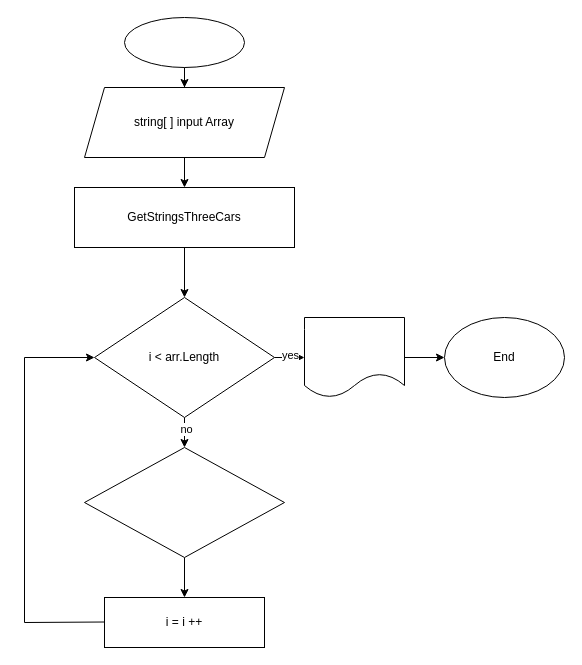
Some shapes in this 582 by 665 pixel diagram are drawn without their labels. The shapes that lost their labels are listed below. From the top down, each one's centre as x and y in pixels, then its label:
[184,42]: Start
[354,357]: Print
[184,502]: inputArray[i] Length < = 3
